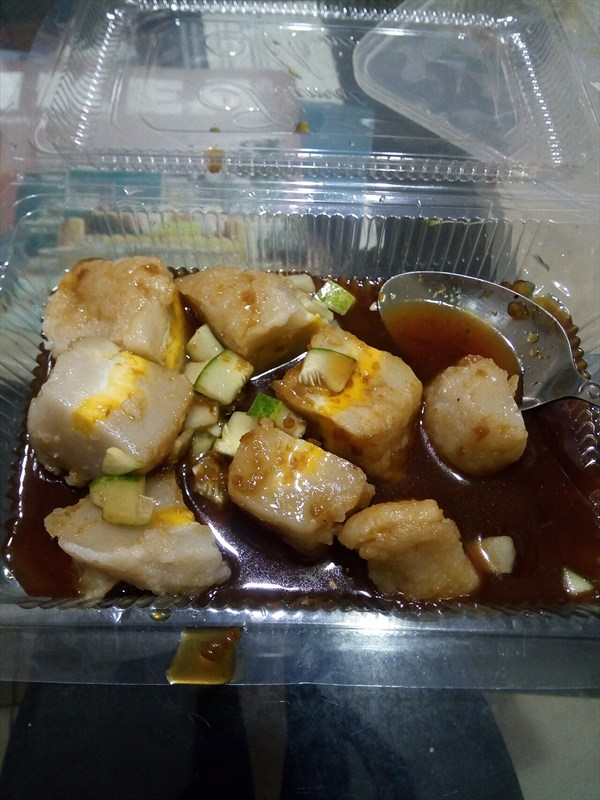Pempek: (73, 165, 505, 648)
